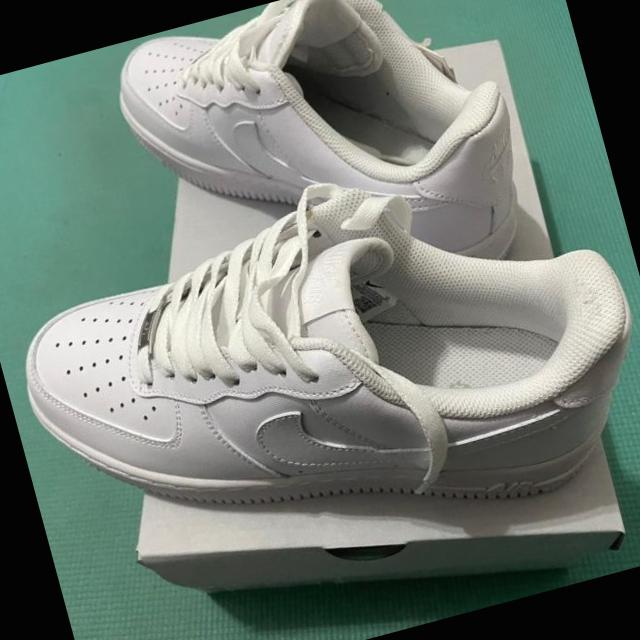nike_original_airforce: (0, 120, 640, 623), (99, 0, 577, 351)
